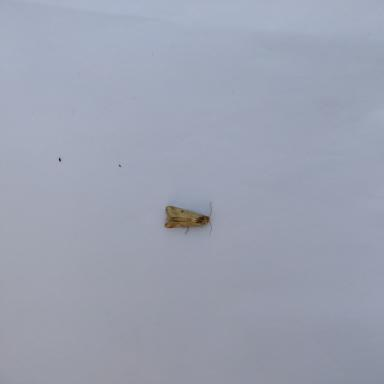abw: (162, 200, 216, 237)
